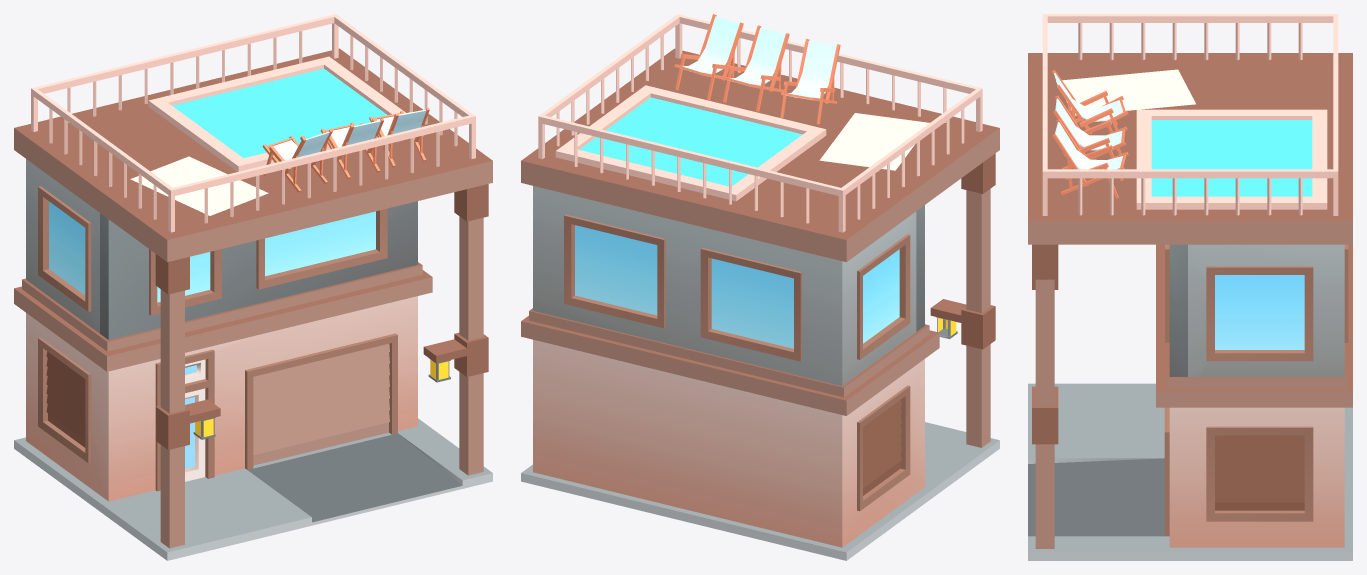
The model's file is city2-building-living-16.glb.
3 views of the same model, side by side, from view 1: azimuth 30°, elevation 25°; view 2: azimuth 150°, elevation 25°; view 3: azimuth 270°, elevation 25° (orthographic). The views are drawn at different scales.
Visible parts, largest first — view 1: Building_Living_16; view 2: Building_Living_16; view 3: Building_Living_16.
Boxes of the visible parts, x1=… form: Building_Living_16: x1=14, y1=14, x2=492, y2=560; Building_Living_16: x1=521, y1=14, x2=999, y2=560; Building_Living_16: x1=1028, y1=14, x2=1352, y2=560.
Bounding box in the file's own units: 8.03 × 8.89 × 6.55.
1 material, 1 textured.
